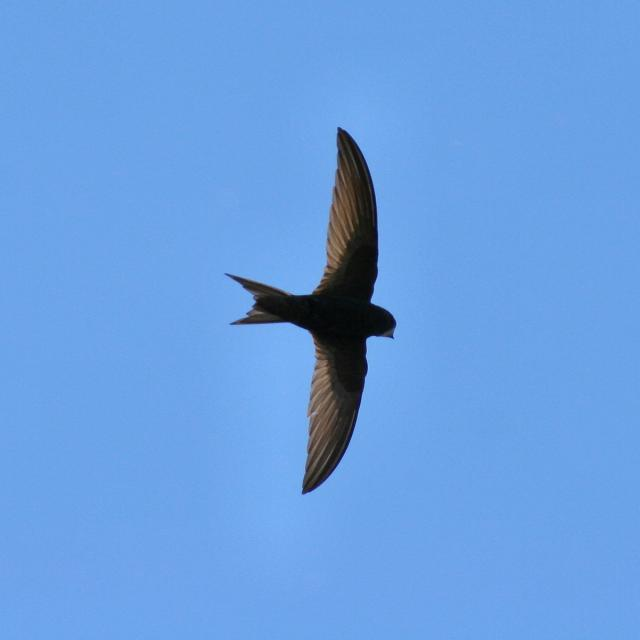bird: (216, 116, 412, 504)
